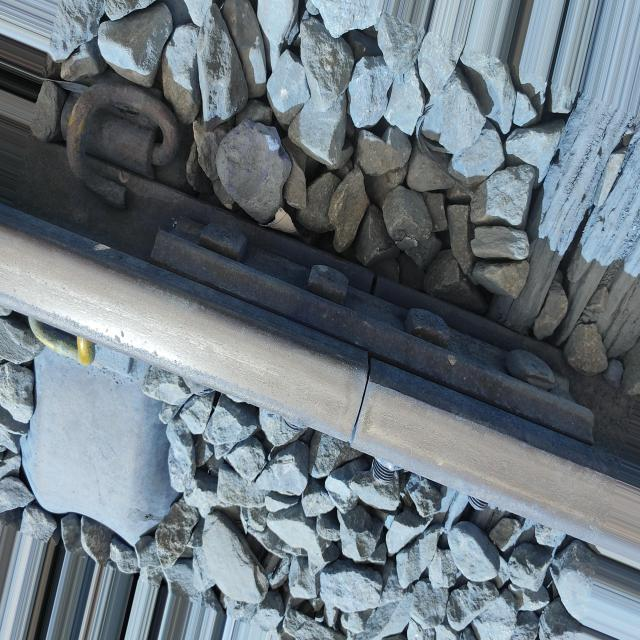Good Fasteners: (67, 81, 180, 207), (28, 317, 95, 365)
Good Joint: (148, 218, 592, 444)
